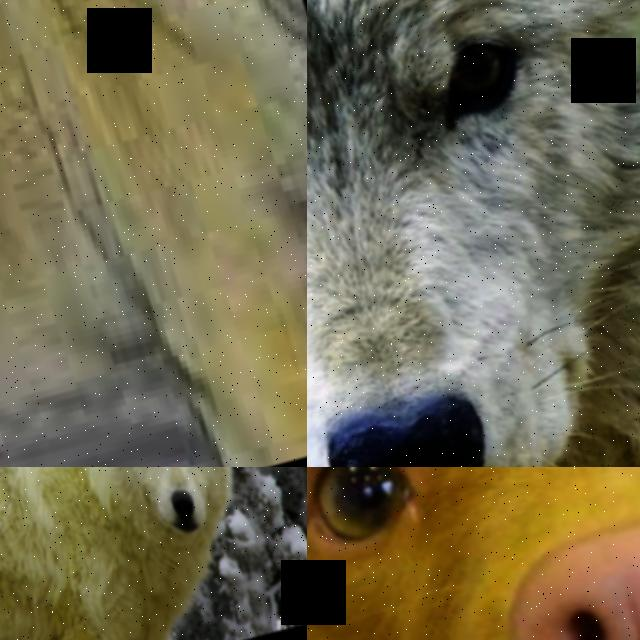dog: (0, 0, 307, 467), (307, 467, 640, 640)
wolf: (307, 0, 640, 467), (0, 467, 292, 640)
